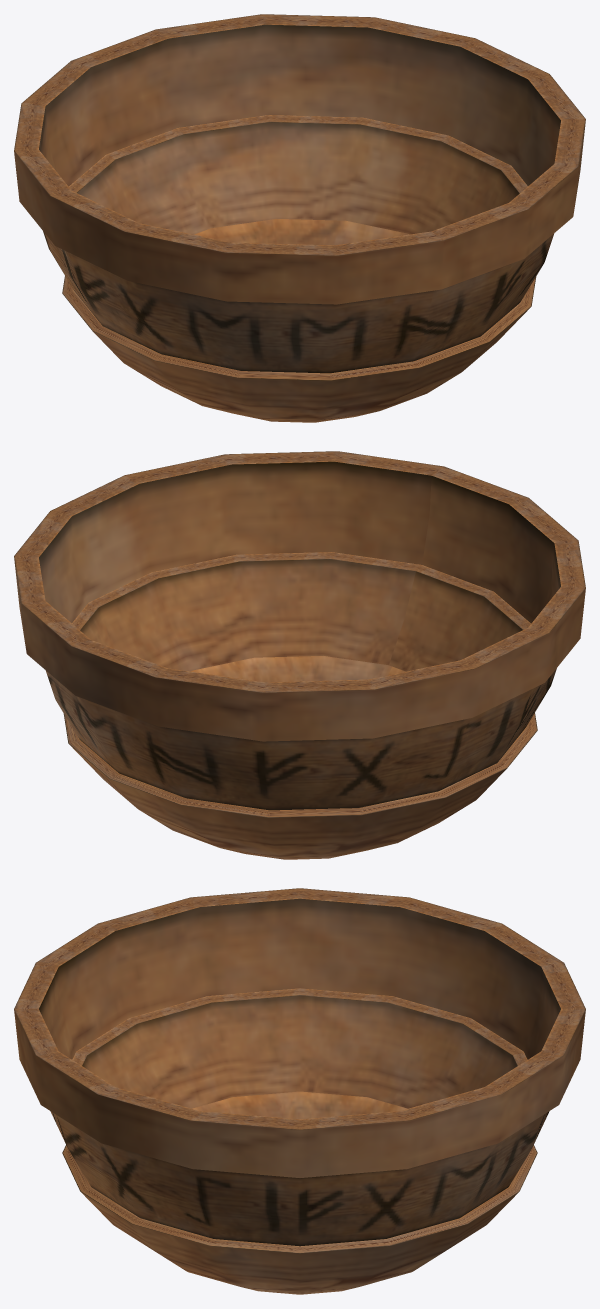
Rendered from bowl_carved.glb.
3 views of the same model, one above another, from view 1: azimuth 30°, elevation 25°; view 2: azimuth 150°, elevation 25°; view 3: azimuth 270°, elevation 25° (orthographic).
Parts seen in each view (by area): view 1: Object_10; view 2: Object_10; view 3: Object_10.
Part boxes in pixels (box(x1,y1,x2,y2)): Object_10: box(14, 14, 585, 422); Object_10: box(14, 451, 585, 859); Object_10: box(14, 888, 585, 1294).
Bounding box in the file's own units: 0.3252 × 0.1502 × 0.3252.
Materials: 1 (1 with a texture image).
